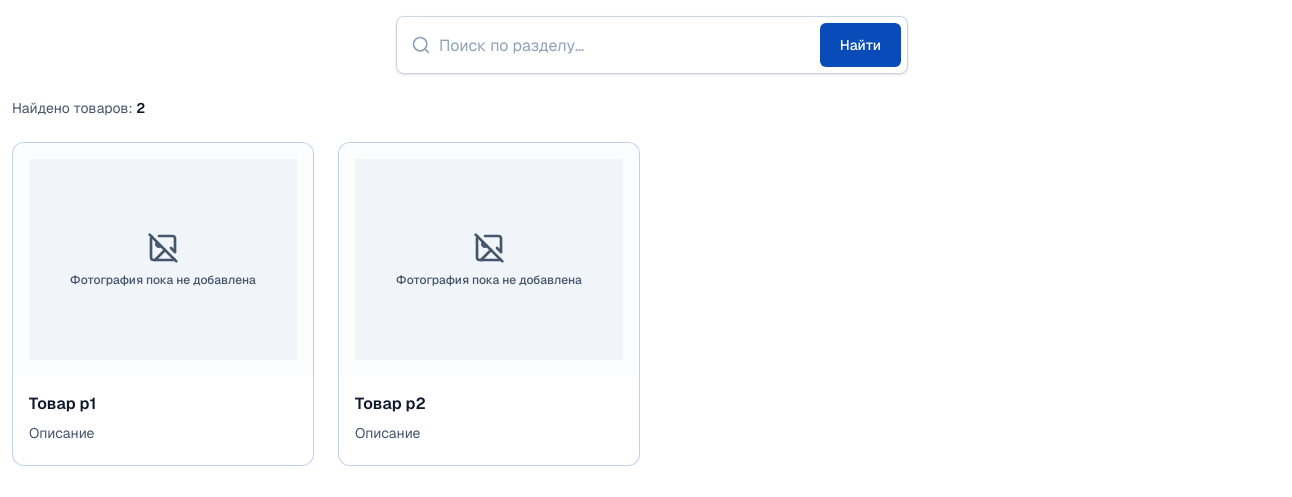
Test: ClientCatalogSearch: поиск › отправка формы делает fetch, обновляет URL и грид
The width and height of the screenshot is (1292, 497).
Type "насос" into the field labelled "Поиск по разделу…" at (625, 45), box [439,25,812,65]
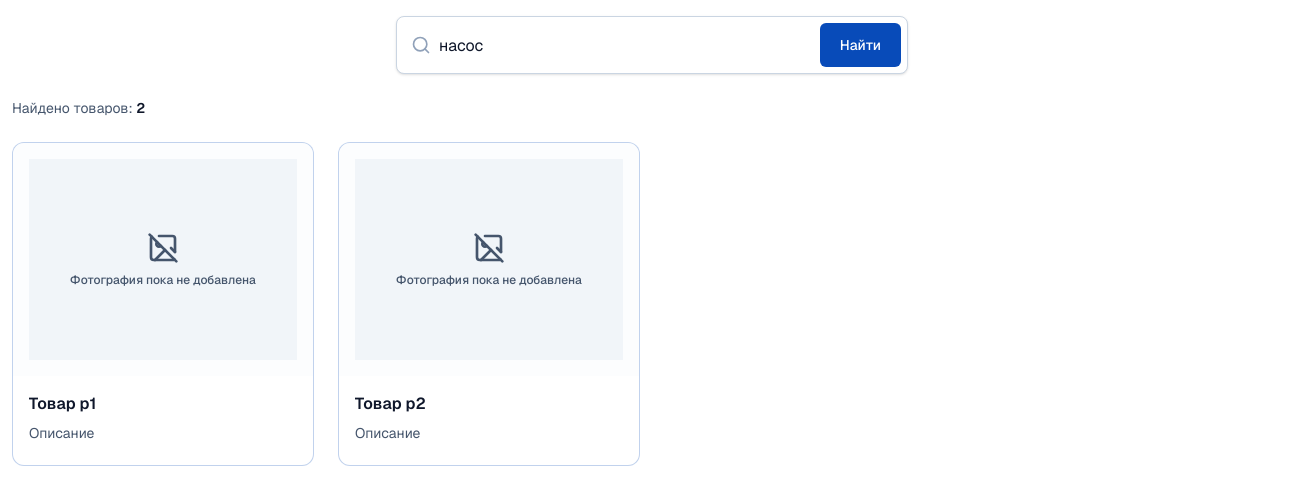
Submit the form named "поиск", box [396,16,908,74]
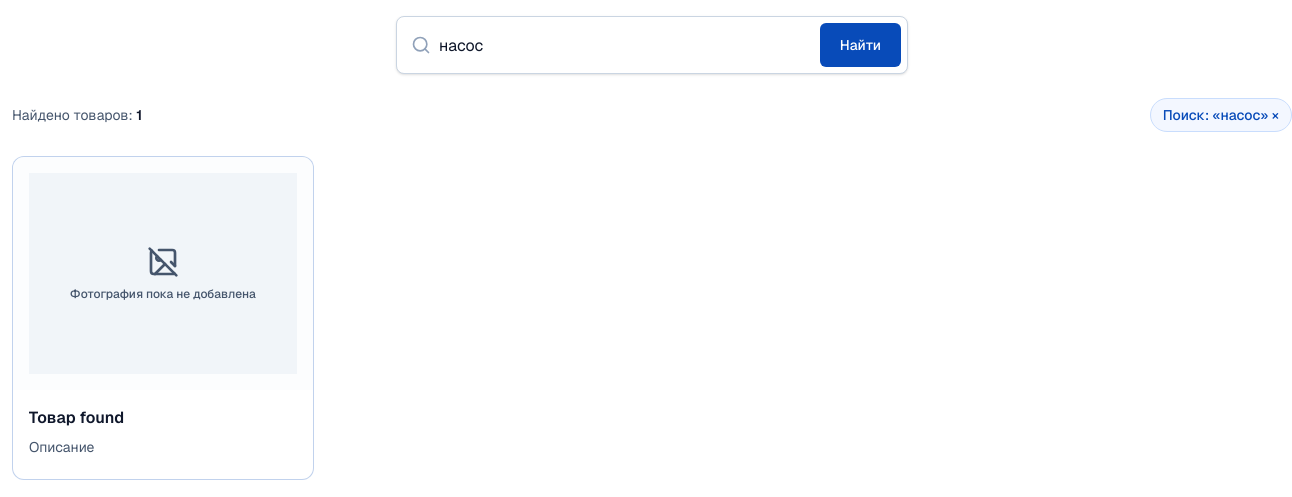
Expected: the text "Товар found" is shown, [29,407,124,428]
